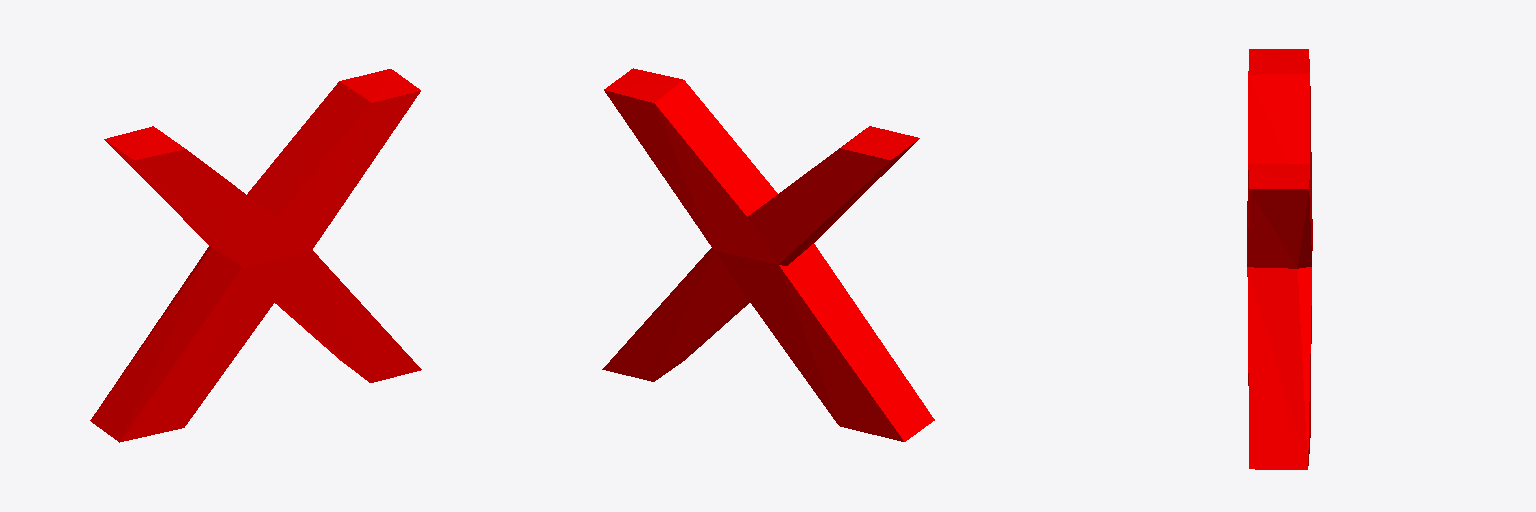
The model's file is csystemX.obj.
3 views of the same model, side by side, from view 1: azimuth 30°, elevation 25°; view 2: azimuth 150°, elevation 25°; view 3: azimuth 270°, elevation 25° (orthographic).
Visible parts, largest first — view 1: CoordinateSystem_X_CoordinateSystem_CoordinateSystemMesh.002; view 2: CoordinateSystem_X_CoordinateSystem_CoordinateSystemMesh.002; view 3: CoordinateSystem_X_CoordinateSystem_CoordinateSystemMesh.002.
Boxes of the visible parts, x1,y1,x2,y2 form: CoordinateSystem_X_CoordinateSystem_CoordinateSystemMesh.002: [90, 69, 421, 442]; CoordinateSystem_X_CoordinateSystem_CoordinateSystemMesh.002: [602, 68, 934, 441]; CoordinateSystem_X_CoordinateSystem_CoordinateSystemMesh.002: [1247, 49, 1312, 469].
Bounding box in the file's own units: 0.025 × 0.0221 × 0.0047.